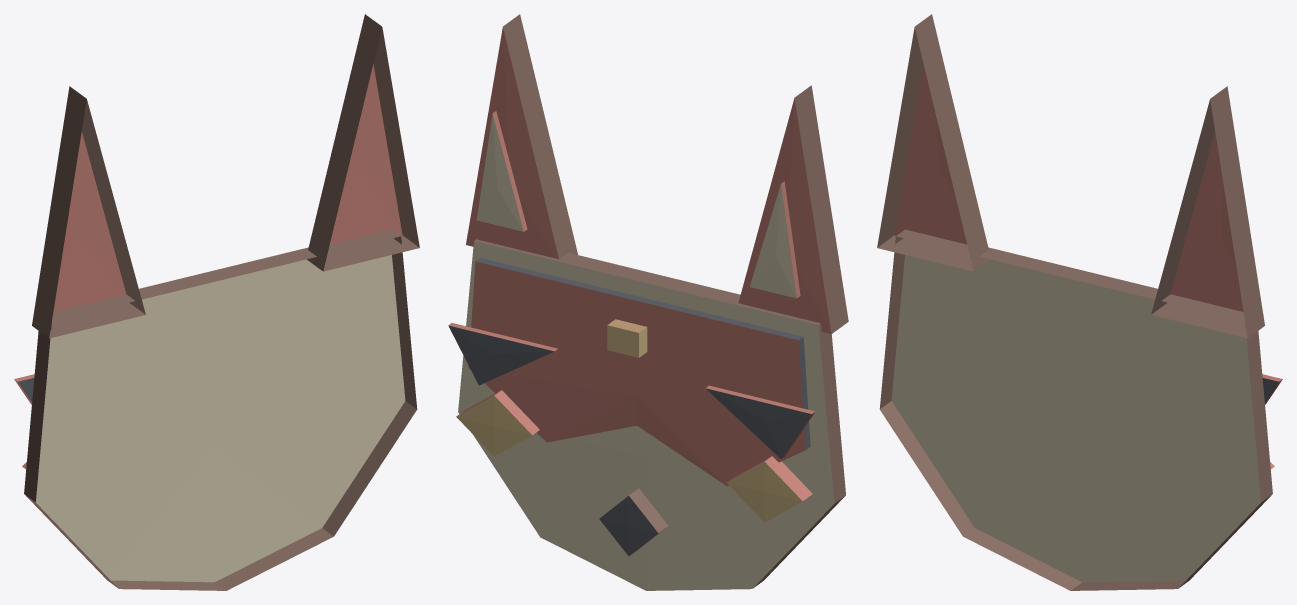
File: fox_festival_mask.glb
The picture shows the model from 3 angles, left to right: view 1: azimuth 30°, elevation 25°; view 2: azimuth 150°, elevation 25°; view 3: azimuth 330°, elevation 25°; orthographic projection.
Visible parts, largest first — view 1: head; view 2: head; view 3: head.
Part boxes in pixels (x1,y1,x2,y2): head: [14, 14, 419, 590]; head: [448, 14, 848, 590]; head: [877, 14, 1282, 590].
Bounding box in the file's own units: 7.1 × 9.5 × 1.39.
